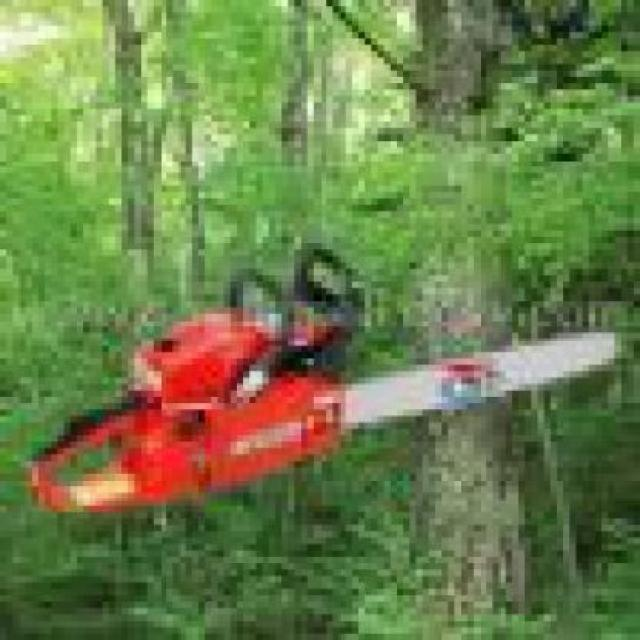Chainsaw: (29, 240, 622, 515)
